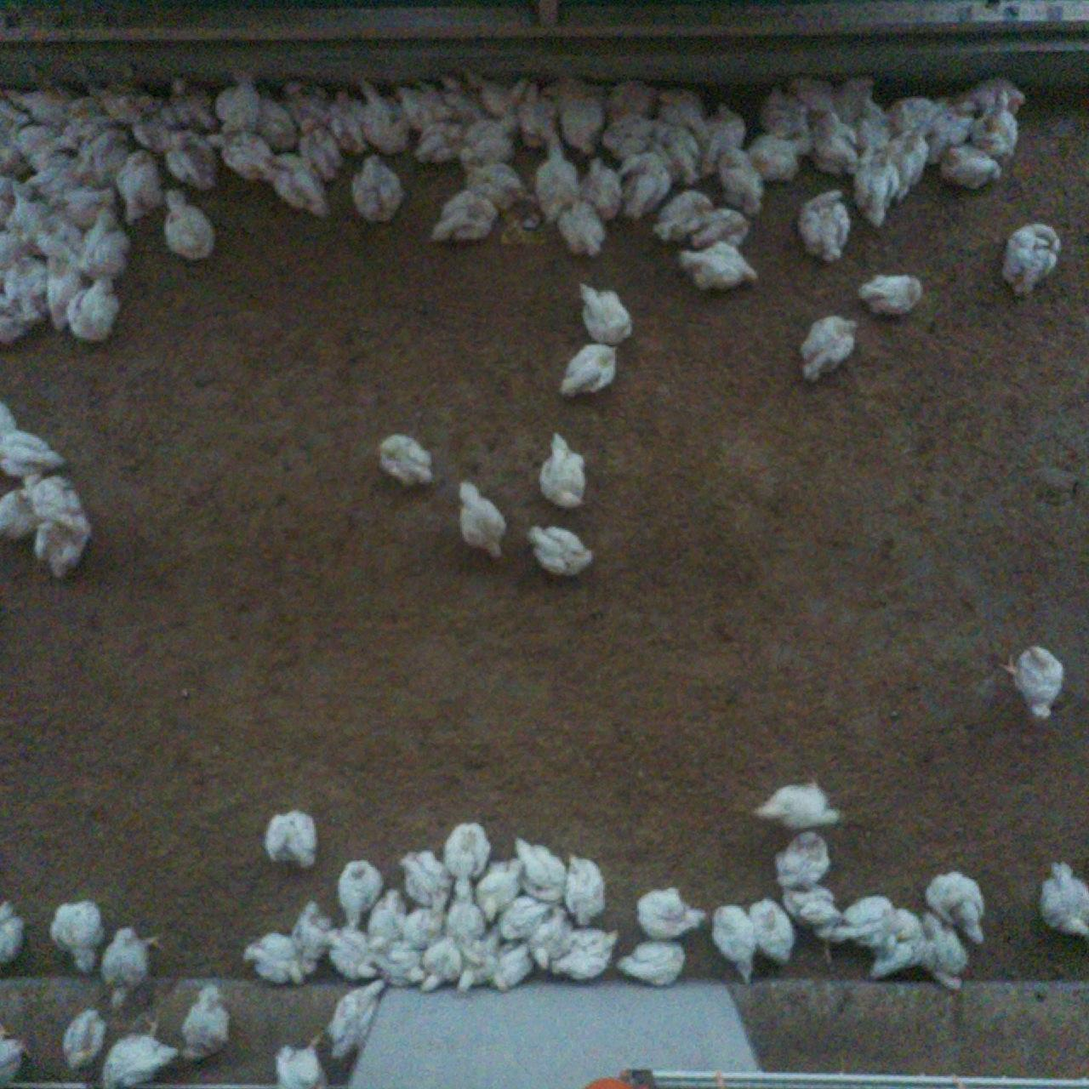chicken: (100, 1011, 183, 1087), (542, 71, 613, 154), (100, 925, 169, 1009), (996, 645, 1066, 721), (925, 869, 990, 949), (325, 977, 385, 1062), (752, 775, 841, 832), (999, 220, 1063, 299), (267, 148, 334, 223), (548, 920, 620, 987), (528, 133, 580, 225), (110, 149, 171, 227), (47, 897, 107, 976), (678, 239, 761, 296), (347, 151, 411, 224), (806, 101, 865, 179), (867, 907, 929, 981), (830, 894, 904, 955), (63, 271, 124, 345), (423, 188, 498, 248), (453, 476, 507, 559), (355, 73, 412, 151), (161, 187, 220, 262), (14, 117, 100, 168), (4, 252, 61, 328), (32, 508, 93, 579), (798, 313, 858, 385), (465, 156, 539, 214), (160, 71, 227, 135), (757, 82, 814, 157), (512, 832, 571, 904), (768, 831, 835, 894), (85, 202, 134, 286), (1037, 858, 1089, 937), (537, 430, 588, 510), (710, 904, 761, 984), (615, 150, 671, 222), (242, 929, 309, 989), (796, 188, 851, 261), (921, 908, 969, 991), (43, 253, 94, 331), (471, 853, 527, 924), (90, 77, 167, 128), (220, 123, 281, 187), (647, 122, 704, 190), (968, 88, 1020, 162), (182, 981, 236, 1052), (636, 885, 708, 938), (561, 847, 608, 928), (526, 523, 595, 578), (952, 75, 1029, 124), (576, 282, 634, 347), (1, 427, 69, 482), (614, 937, 687, 988), (2, 75, 71, 128), (682, 205, 754, 255), (556, 341, 619, 398), (397, 847, 454, 910), (927, 88, 983, 152), (336, 855, 385, 928), (15, 117, 85, 168), (263, 807, 319, 870), (745, 897, 796, 966), (852, 150, 895, 231), (647, 190, 710, 245), (396, 76, 460, 130), (442, 875, 488, 950), (937, 143, 1006, 193), (19, 470, 84, 522), (514, 78, 560, 151), (695, 107, 742, 178), (10, 179, 61, 244), (374, 934, 435, 988), (275, 1027, 328, 1089), (527, 901, 573, 972), (714, 144, 762, 212), (461, 111, 522, 164), (254, 90, 304, 154), (212, 66, 259, 134), (294, 113, 341, 181), (377, 433, 436, 487), (60, 1006, 108, 1072), (468, 69, 530, 120), (29, 209, 92, 258), (856, 271, 923, 317), (63, 182, 129, 228), (324, 924, 377, 980), (279, 75, 335, 128), (887, 92, 950, 139), (413, 935, 462, 995), (359, 887, 408, 947), (499, 890, 552, 945), (442, 822, 493, 879), (869, 145, 914, 209), (577, 160, 622, 224), (559, 202, 602, 265), (886, 125, 927, 191), (329, 88, 370, 154), (599, 110, 659, 155), (746, 134, 801, 183), (658, 82, 707, 135), (487, 940, 533, 996), (294, 898, 334, 962), (607, 75, 662, 120), (411, 118, 467, 162), (853, 96, 897, 151), (2, 486, 44, 541), (790, 71, 835, 119), (398, 909, 450, 949), (1, 1022, 31, 1089), (1, 292, 36, 348), (841, 69, 875, 126), (1, 892, 26, 966), (70, 92, 108, 125), (2, 166, 18, 232), (1, 171, 20, 225), (2, 396, 19, 434)
